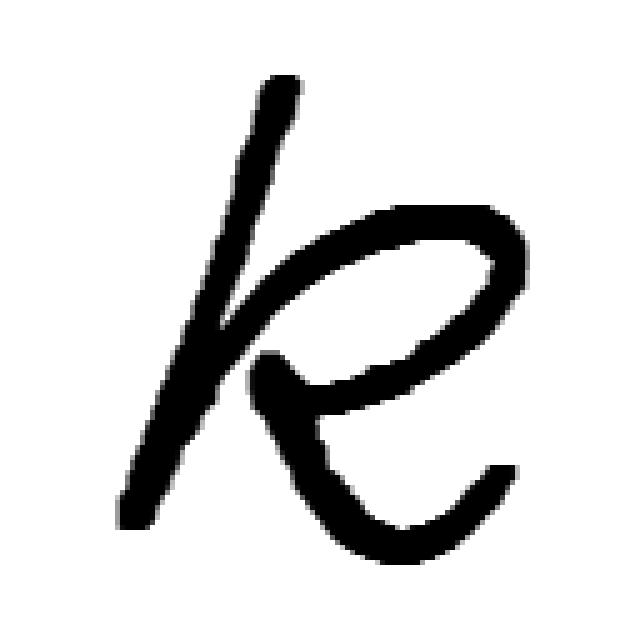K: (110, 80, 518, 563)
